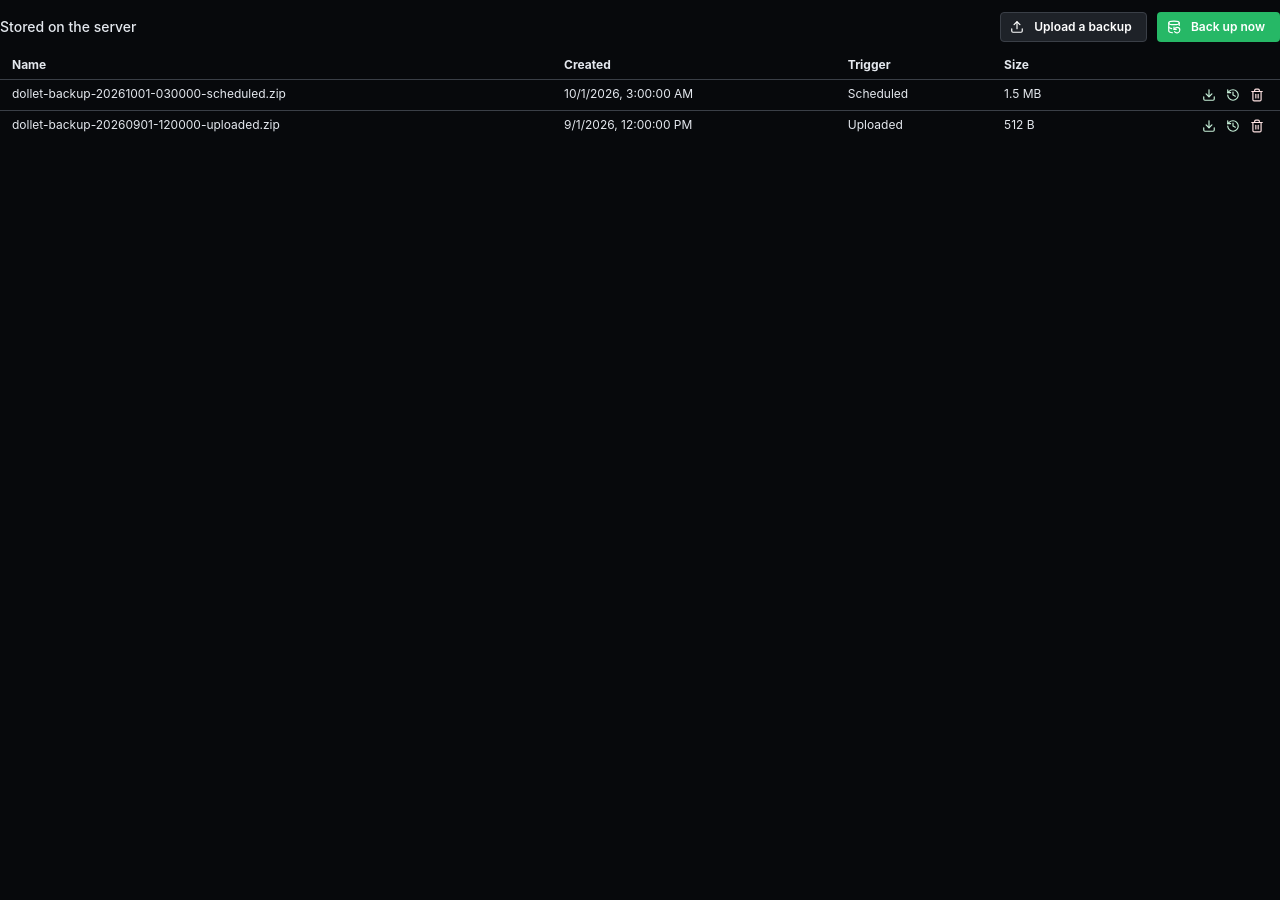
Test: restoring › restarts into the backup and reloads once the server is back
Check: the cell "dollet-backup-20261001-030000-scheduled.zip" is shown, box x1=0 y1=79 x2=552 y2=110
Click the button named "Restore dollet-backup-20261001-030000-scheduled.zip": [1233, 95] box x1=1222 y1=84 x2=1244 y2=106
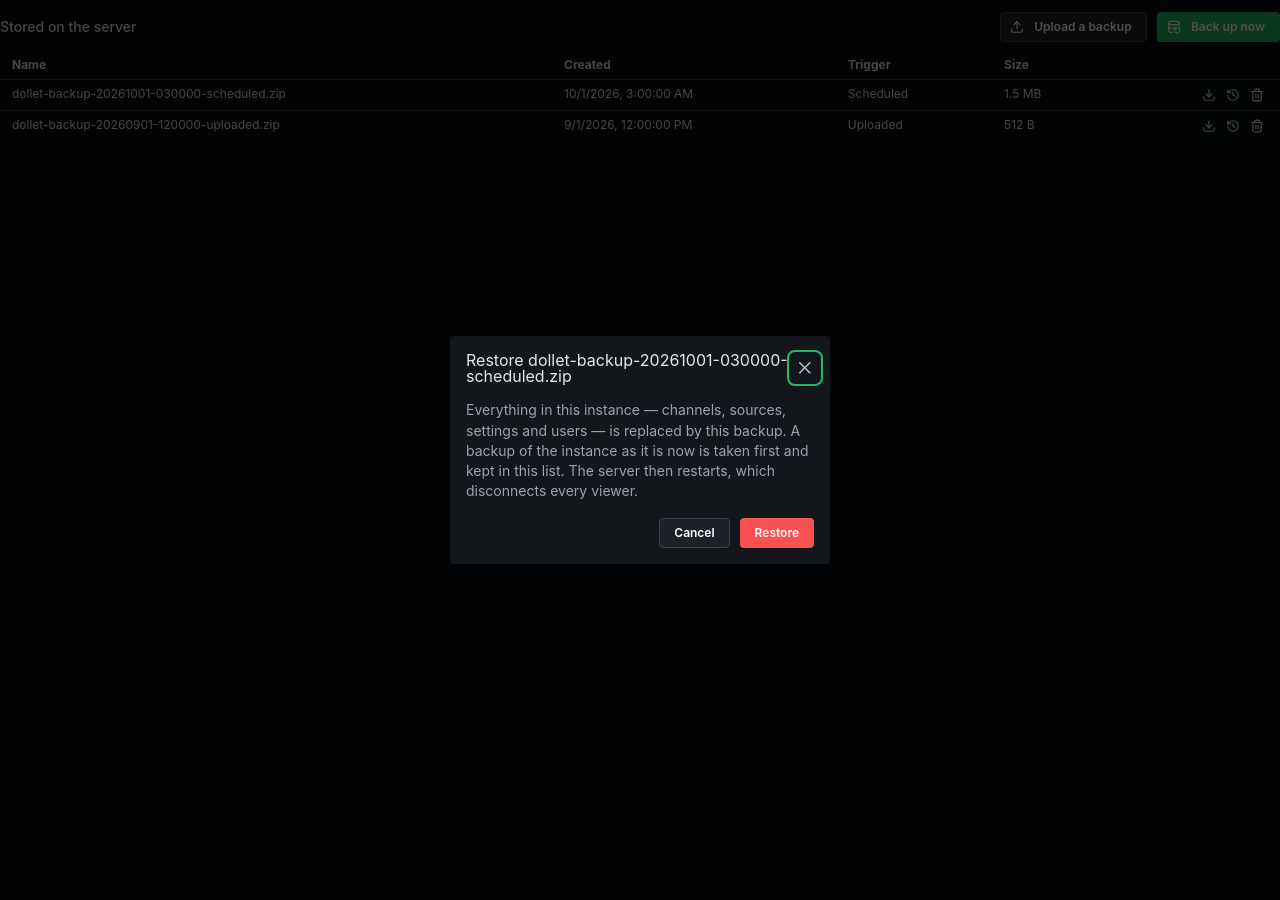
Click the button "Restore": [777, 533] box x1=740 y1=518 x2=814 y2=548
Wait 3000 ms
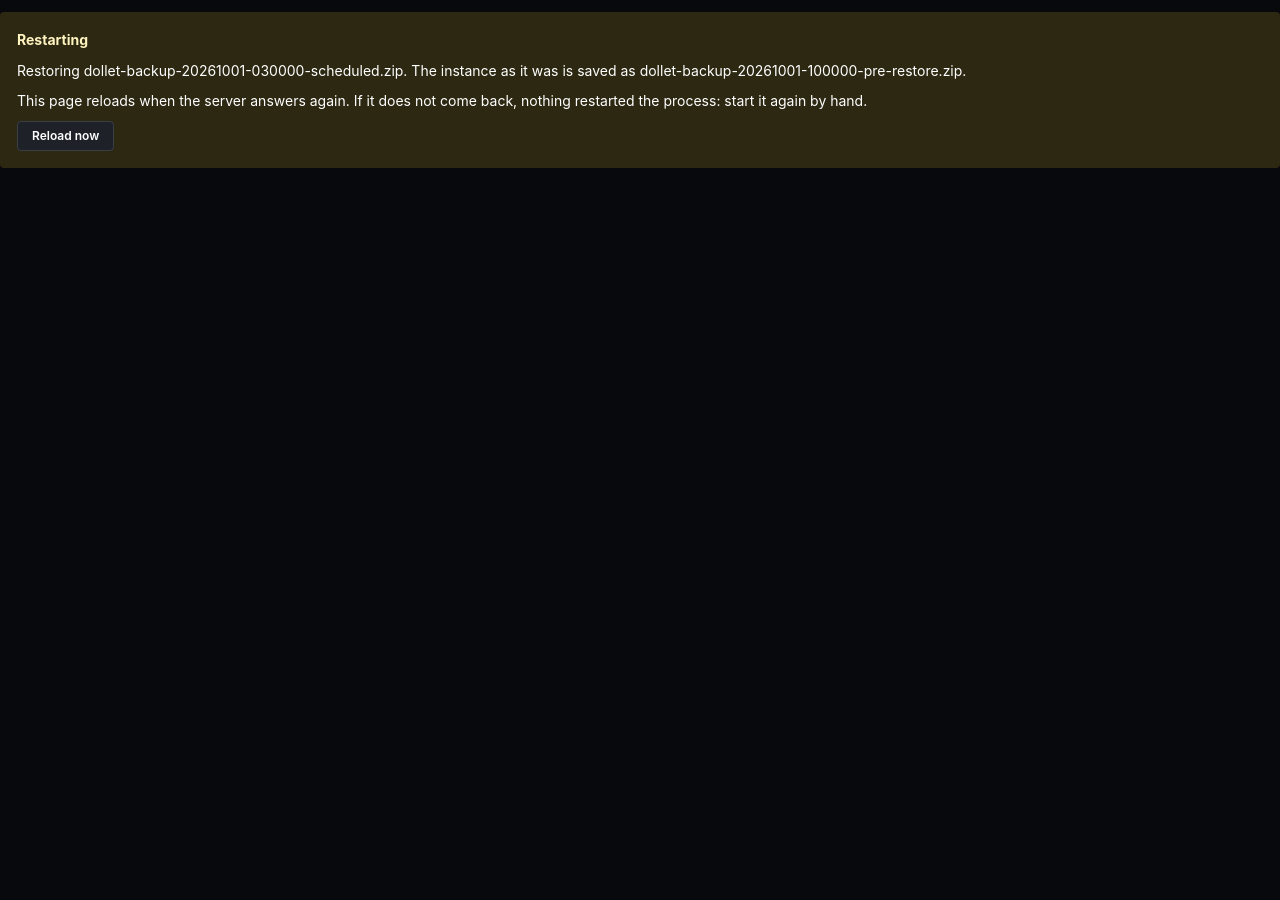
Check: the message shows "dollet-backup-20261001-100000-pre-restore.zip", box x1=17 y1=62 x2=966 y2=79
